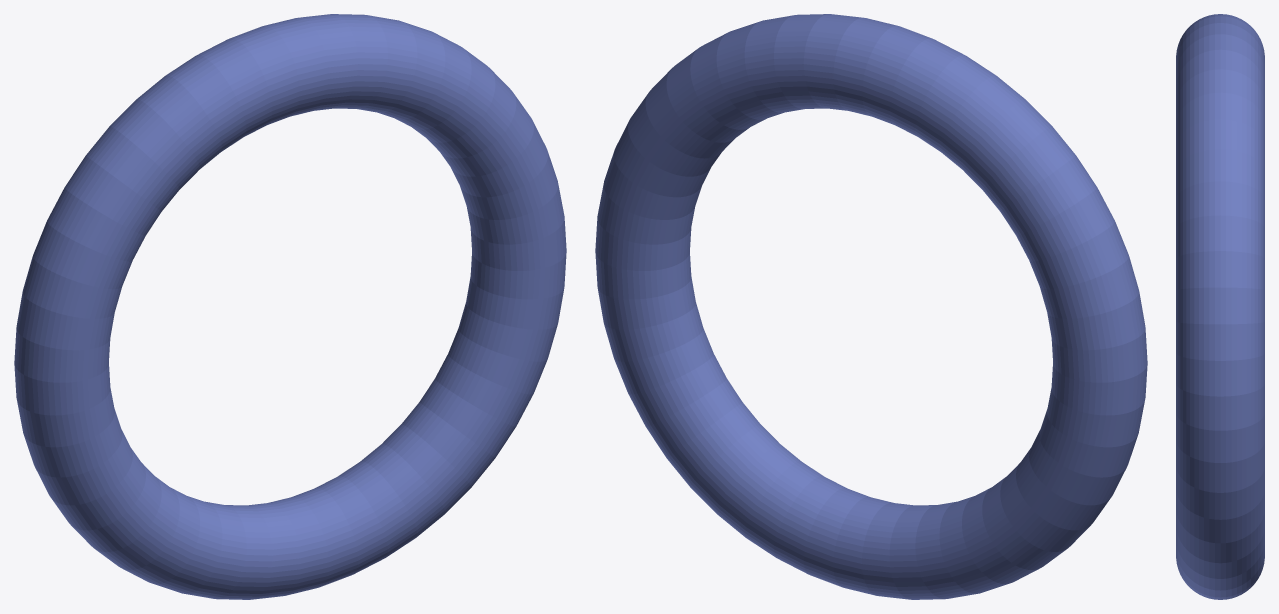
The picture shows the model from 3 angles, left to right: view 1: azimuth 30°, elevation 25°; view 2: azimuth 150°, elevation 25°; view 3: azimuth 270°, elevation 25°; orthographic projection. The views are drawn at different scales.
Visible parts, largest first — view 1: world; view 2: world; view 3: world.
Part boxes in pixels (x1,y1,x2,y2): world: (14, 14, 566, 599); world: (595, 14, 1147, 599); world: (1176, 14, 1264, 599).
Bounding box in the file's own units: 14.93 × 14.9 × 2.26.
